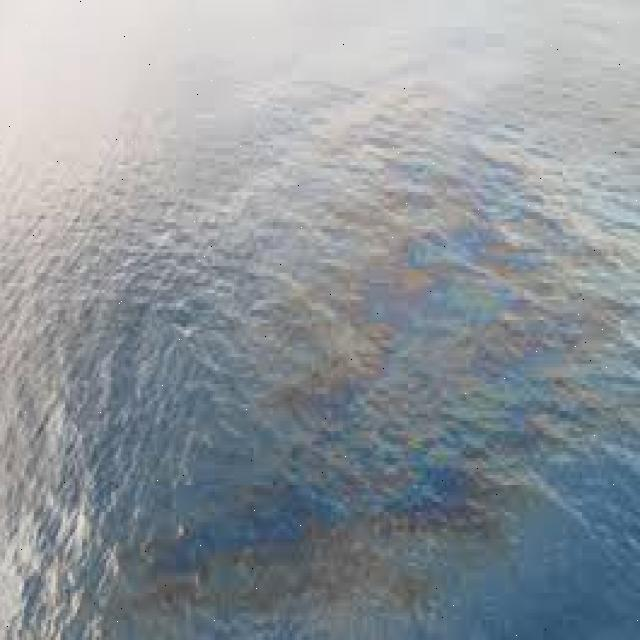rainbow: (254, 175, 570, 638)
